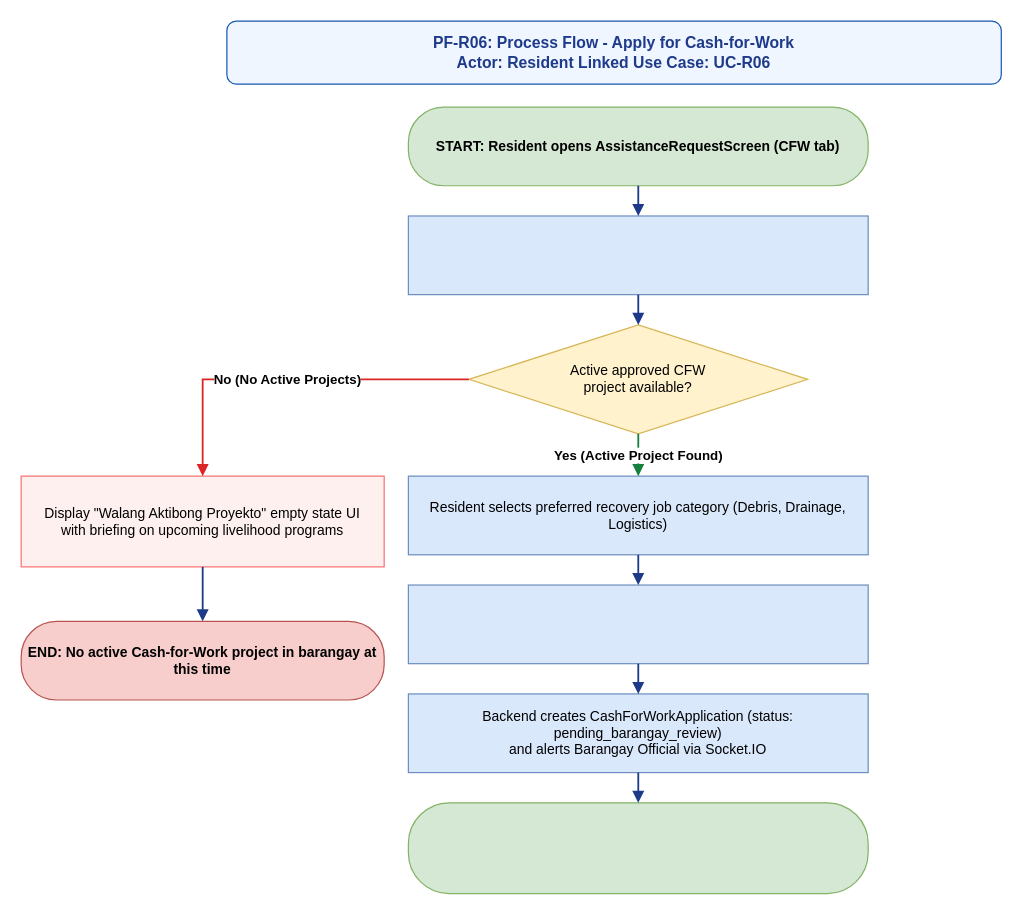
Image size: 1022x915. Some labels were removed from this diagram. Each missing label, with the box of its shape:
App calls GET /api/cash-for-work/projects?status=approved_active: (407, 215, 868, 295)
App submits POST /api/cash-for-work/apply with household ID and job category: (407, 584, 868, 664)
END: Application submitted; awaiting Barangay review (PF-BO06): (407, 802, 868, 894)
